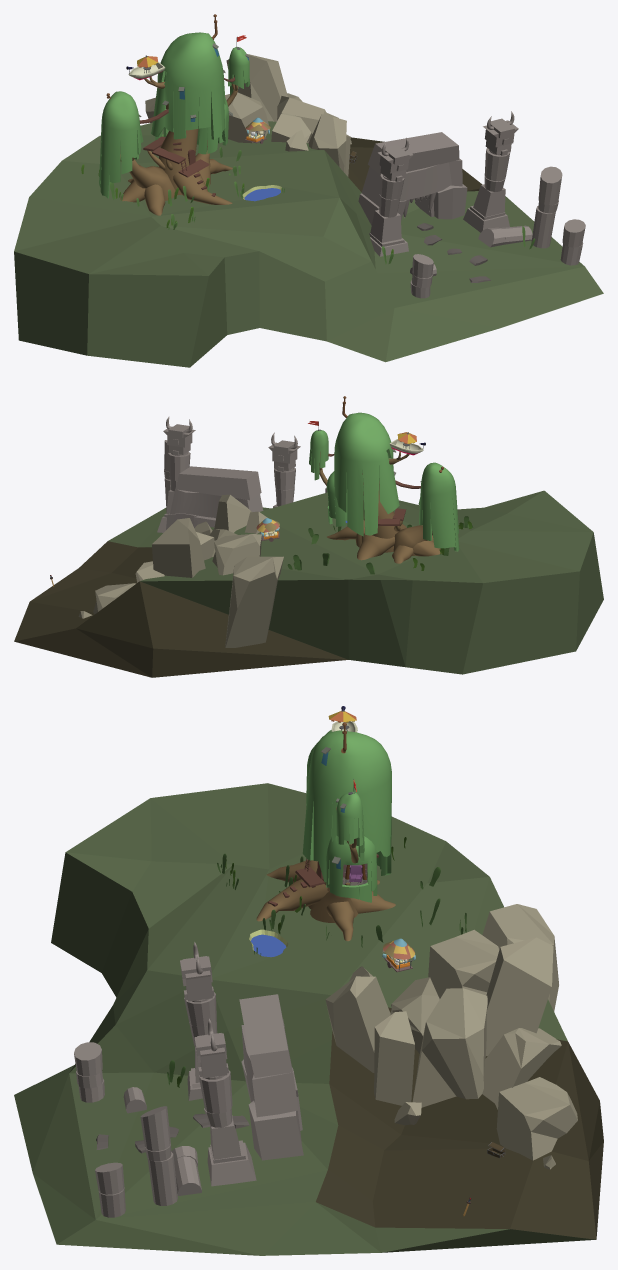
Rendered from terreno_base.fbx.
The picture shows the model from 3 angles, top to bottom: view 1: azimuth 30°, elevation 25°; view 2: azimuth 150°, elevation 25°; view 3: azimuth 270°, elevation 25°; orthographic projection. The views are drawn at different scales.
Parts seen in each view (by area): view 1: Plane.004, Cube.002, Cube, Cube.008, Cube.001, plants, Cube.011; view 2: Plane.004, Cube.002, Cube.008, Cube, plants, Cylinder.002; view 3: Plane.004, Cube.008, Cube, Cube.002, Cube.001, plants, Cylinder.002, Cube.011.
Boxes of the visible parts, x1=… form: Plane.004: x1=14, y1=121, x2=603, y2=367; Cube.002: x1=99, y1=14, x2=249, y2=215; Cube: x1=358, y1=111, x2=585, y2=298; Cube.008: x1=145, y1=54, x2=351, y2=176; Cube.001: x1=531, y1=166, x2=562, y2=248; plants: x1=81, y1=134, x2=535, y2=264; Cube.011: x1=417, y1=223, x2=490, y2=282; Plane.004: x1=14, y1=490, x2=603, y2=677; Cube.002: x1=308, y1=396, x2=459, y2=563; Cube.008: x1=78, y1=494, x2=283, y2=647; Cube: x1=157, y1=416, x2=327, y2=532; plants: x1=287, y1=516, x2=473, y2=574; Cylinder.002: x1=256, y1=518, x2=279, y2=541; Plane.004: x1=14, y1=783, x2=603, y2=1255; Cube.008: x1=325, y1=904, x2=577, y2=1169; Cube: x1=74, y1=942, x2=303, y2=1217; Cube.002: x1=256, y1=706, x2=395, y2=941; Cube.001: x1=140, y1=1106, x2=177, y2=1205; plants: x1=167, y1=837, x2=466, y2=1087; Cylinder.002: x1=382, y1=938, x2=415, y2=972; Cube.011: x1=96, y1=1113, x2=249, y2=1153.
Bounding box in the file's own units: 7035 × 3408 × 5262.
